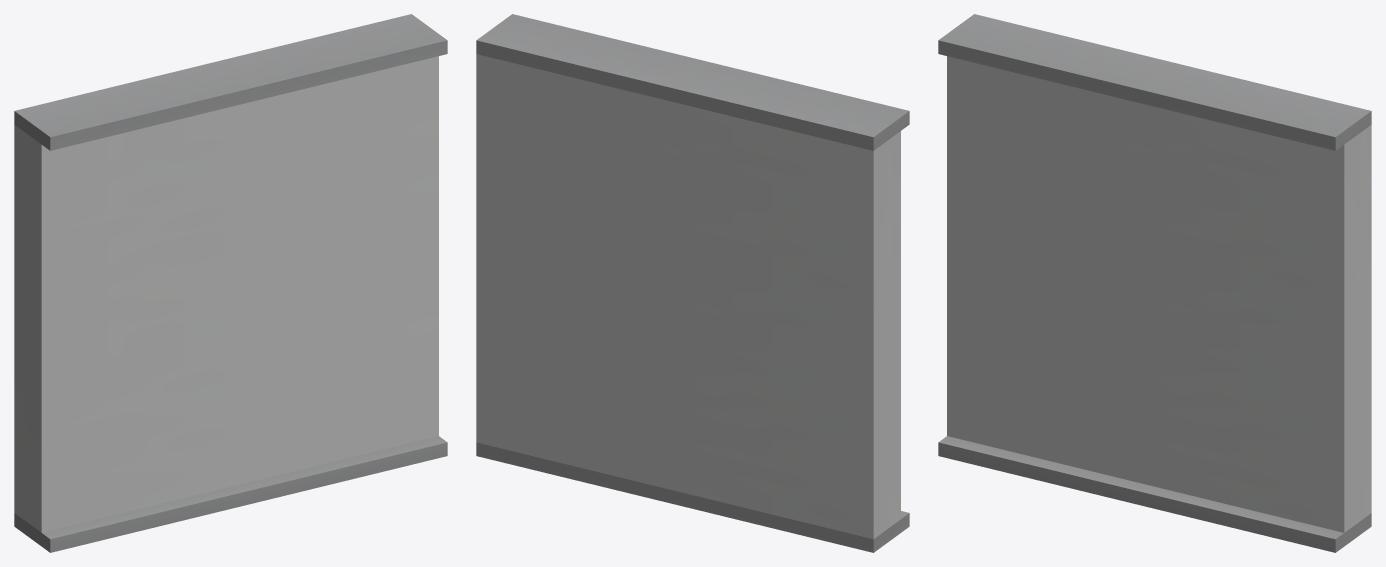
The model's file is wall_1.dae.
3 views of the same model, side by side, from view 1: azimuth 30°, elevation 25°; view 2: azimuth 150°, elevation 25°; view 3: azimuth 330°, elevation 25° (orthographic).
Parts seen in each view (by area): view 1: wall_1; view 2: wall_1; view 3: wall_1.
Boxes of the visible parts, box(x1,y1,x2,y2) form: wall_1: box(14, 14, 447, 552); wall_1: box(476, 14, 909, 552); wall_1: box(938, 14, 1371, 552).
Size of the model in its own units: 2 by 0.314 by 2.
